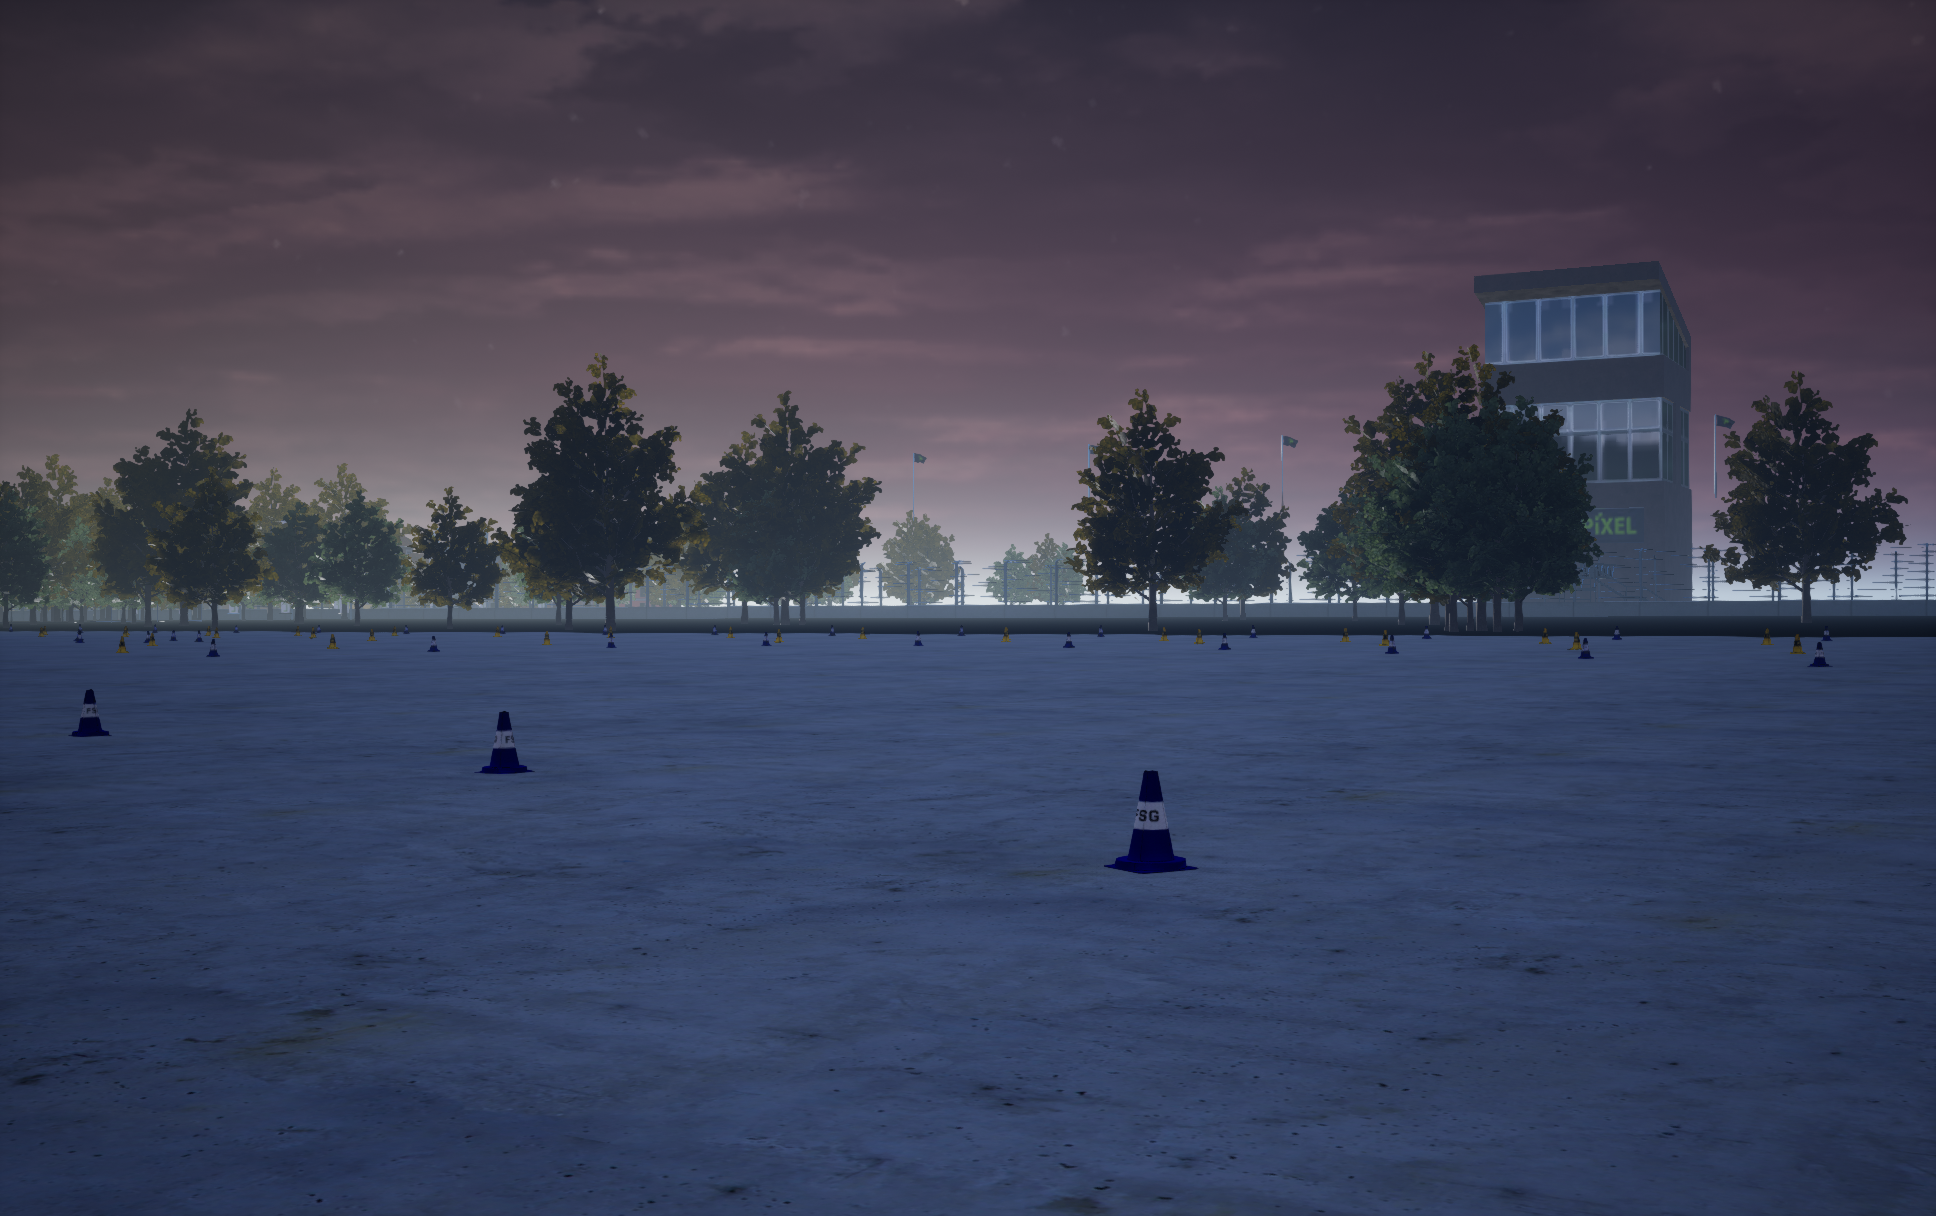blue: (1790, 635, 1804, 653)
yellow: (1104, 771, 1198, 873), (473, 712, 534, 773), (69, 689, 111, 735), (1807, 642, 1832, 665), (1577, 637, 1593, 658), (1385, 635, 1398, 653)
